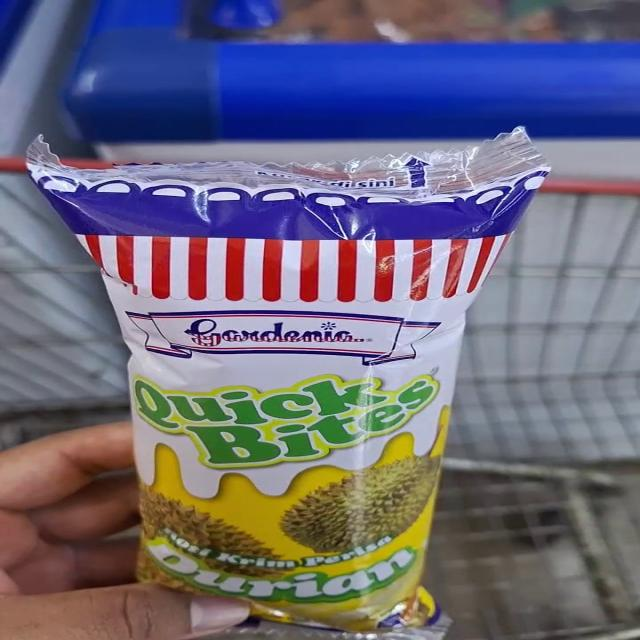Roti: (56, 148, 513, 628)
